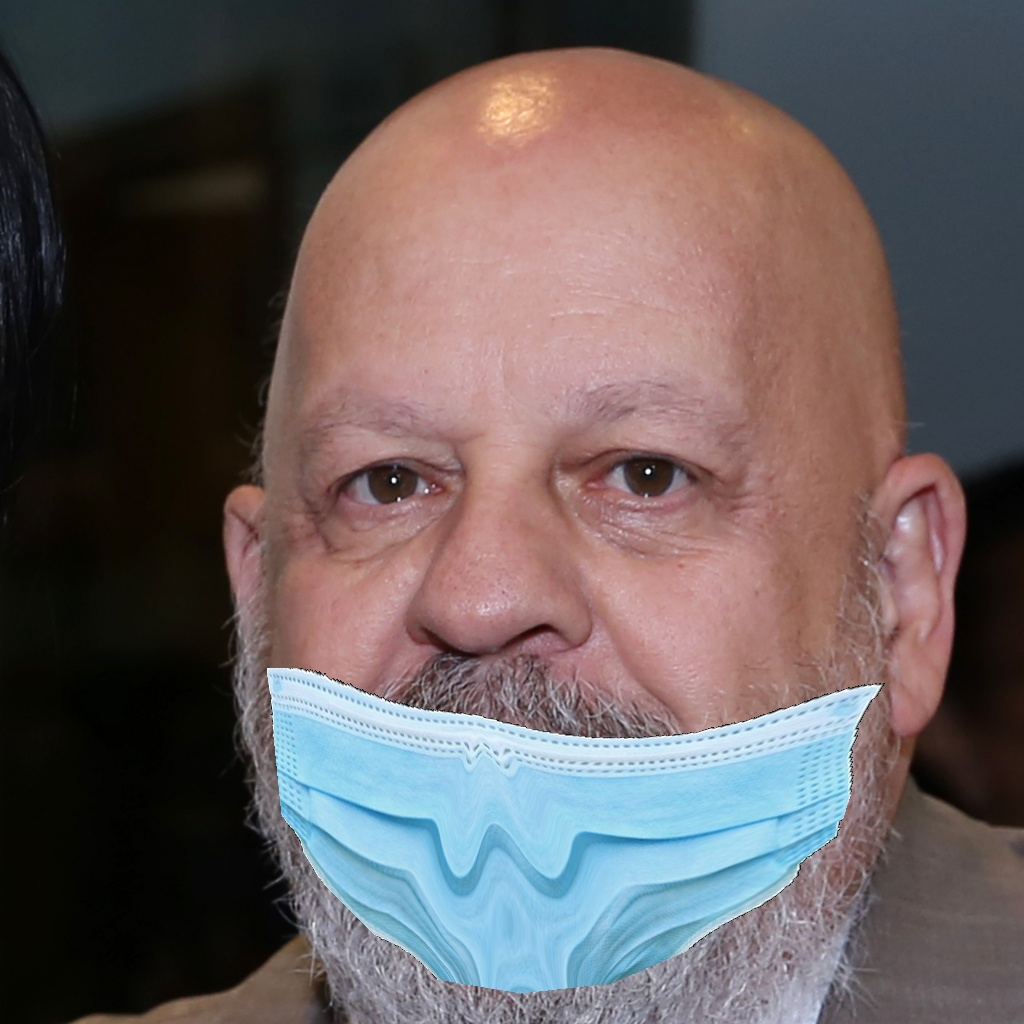mascarilla_mal_puesta: (239, 393, 959, 990)
